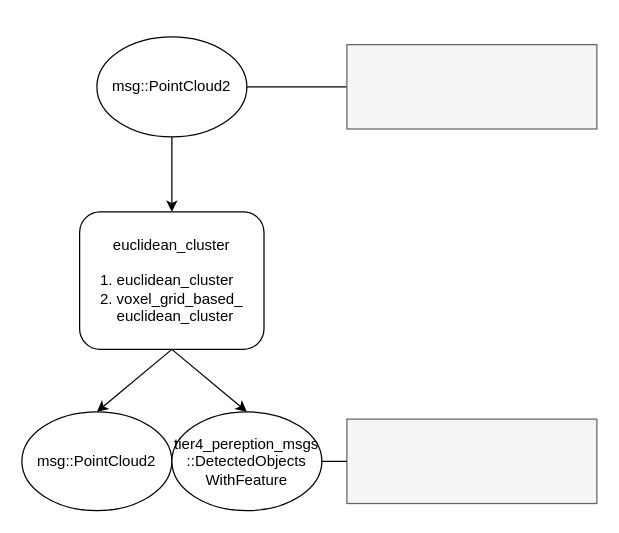
Some shapes in this 619 by 533 pixel diagram are drawn without their labels. The shapes that lost their labels are listed below. From the top down, each one's box as (x1, y1, x2, y2) in pixels, then its label:
(346, 43, 597, 129): height width msg::pointField data 등
(346, 418, 597, 504): msg::PointCloud2 cluster msg::RegioinOfInterest roi
